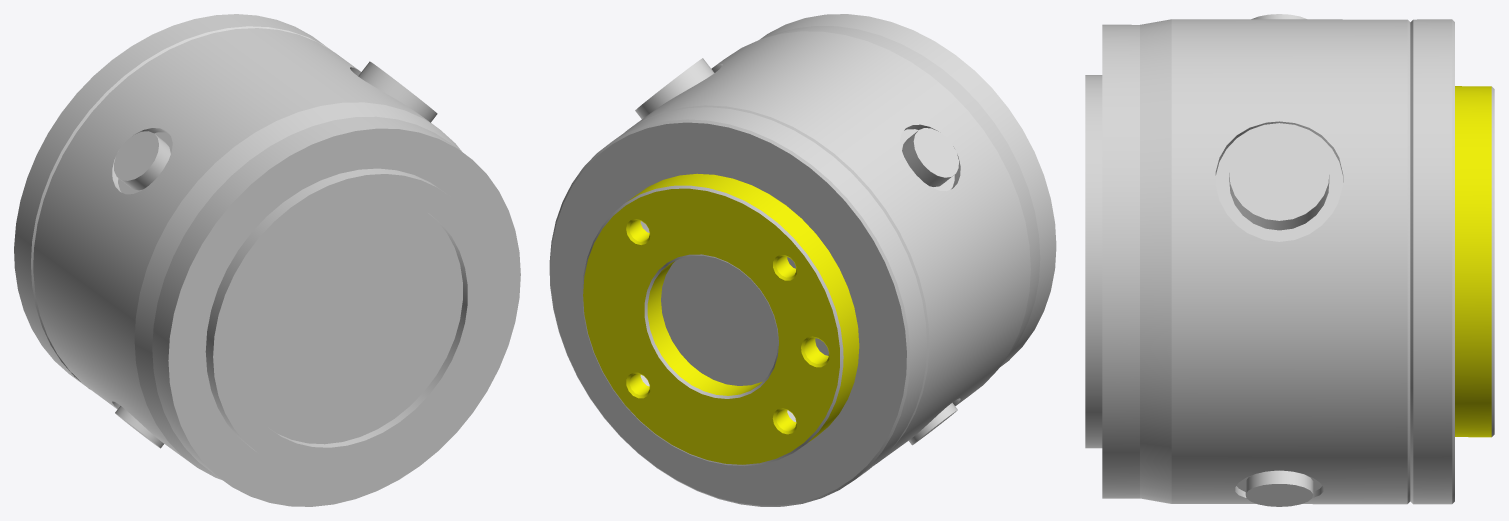
3 renders of one model, left to right at view 1: azimuth 30°, elevation 25°; view 2: azimuth 150°, elevation 25°; view 3: azimuth 270°, elevation 25°, orthographic. The views are drawn at different scales.
Parts seen in each view (by area): view 1: link6.001; view 2: link6.001; view 3: link6.001.
Boxes of the visible parts, x1,y1,x2,y2 form: link6.001: [14, 14, 520, 506]; link6.001: [549, 14, 1056, 506]; link6.001: [1085, 14, 1494, 506].
Bounding box in the file's own units: 0.087 × 0.0734 × 0.087.
